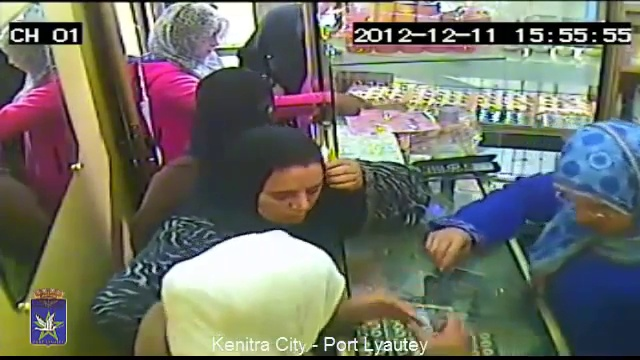face: (258, 168, 324, 225), (557, 187, 636, 233)
